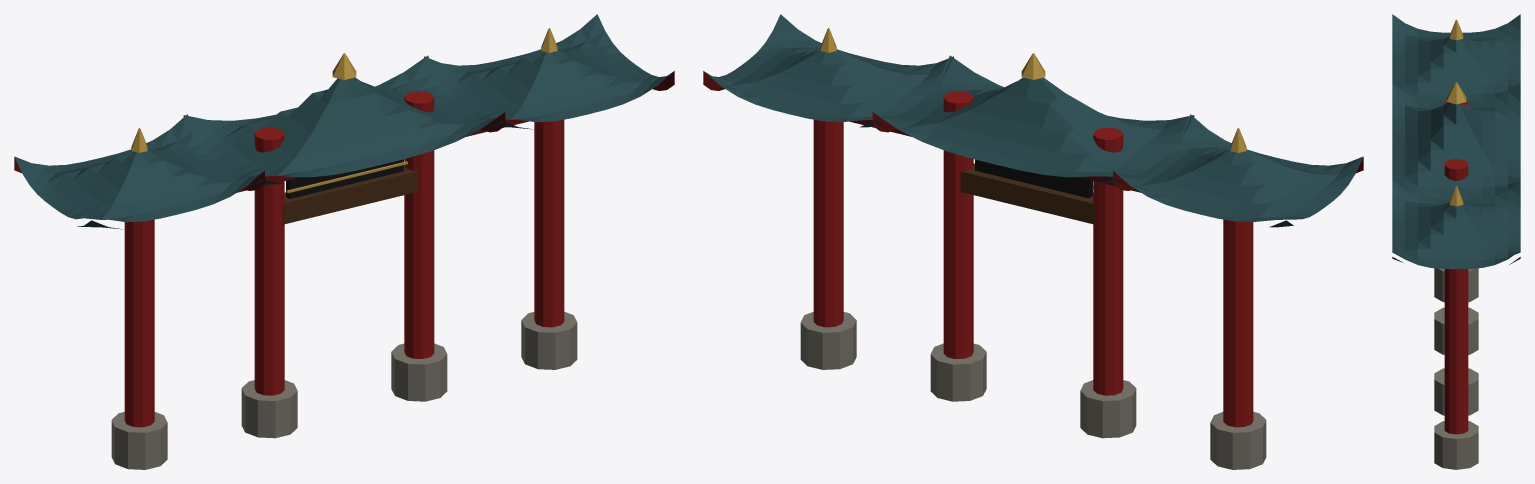
File: paifang-gate.glb
3 views of the same model, side by side, from view 1: azimuth 30°, elevation 25°; view 2: azimuth 150°, elevation 25°; view 3: azimuth 270°, elevation 25° (orthographic). The views are drawn at different scales.
Visible parts, largest first — view 1: paifang-gate; view 2: paifang-gate; view 3: paifang-gate.
Boxes of the visible parts, <box> form: paifang-gate: <box>14,14,674,469</box>; paifang-gate: <box>703,14,1363,469</box>; paifang-gate: <box>1392,14,1520,469</box>.
Size of the model in its own units: 14.8 by 8.6 by 3.4.
